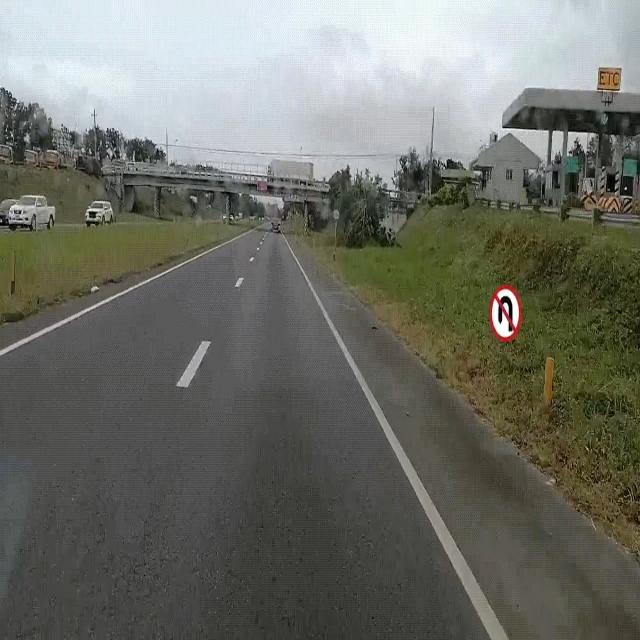Demi-Tour-Interdit: (486, 278, 524, 346)
